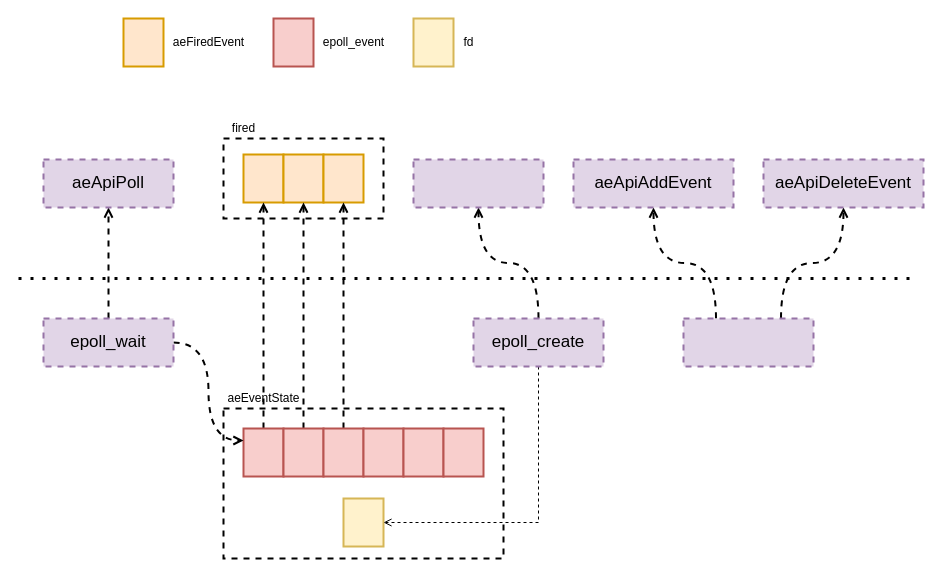
Image size: 942x576. Some labels were removed from this diagram. Here are the shapes that lost their labels. From the top down, the box of each, then its label:
(412, 158, 544, 208): aeApiCreate
(682, 317, 814, 367): epoll_ctl
